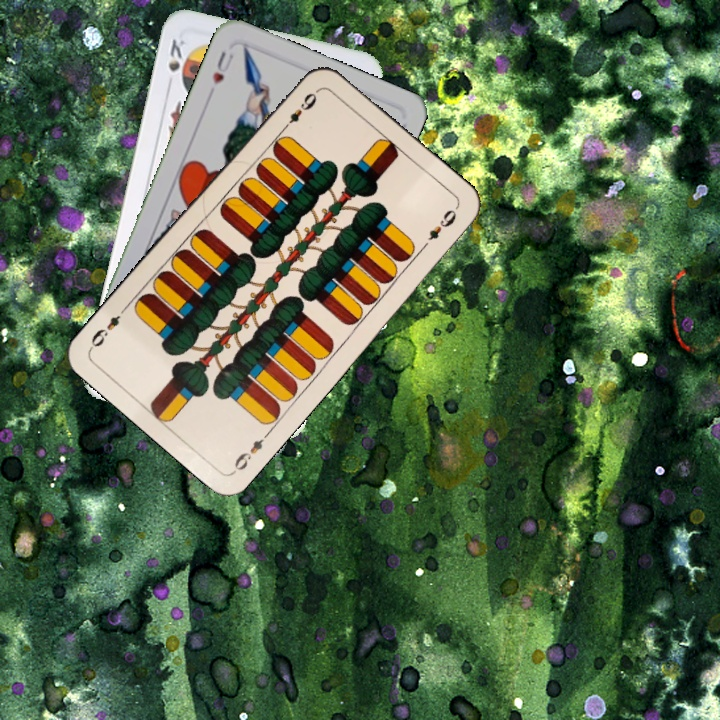E9: (229, 427, 273, 476), (278, 85, 321, 134)
HU: (208, 47, 237, 87)
SK: (164, 35, 190, 75)
